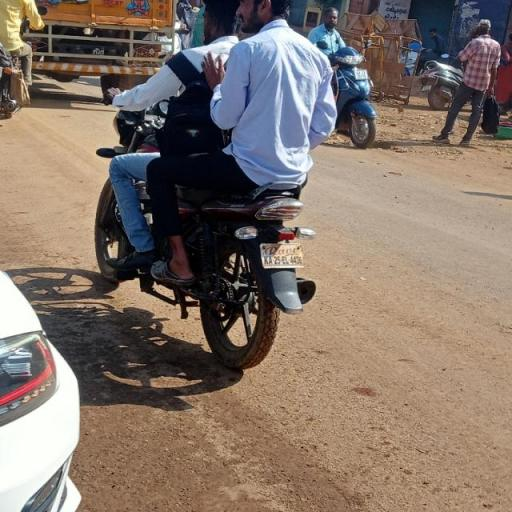bike: (89, 0, 362, 378)
numberplate: (259, 244, 306, 268)
withouthelmet: (238, 0, 284, 29), (202, 0, 238, 36)
